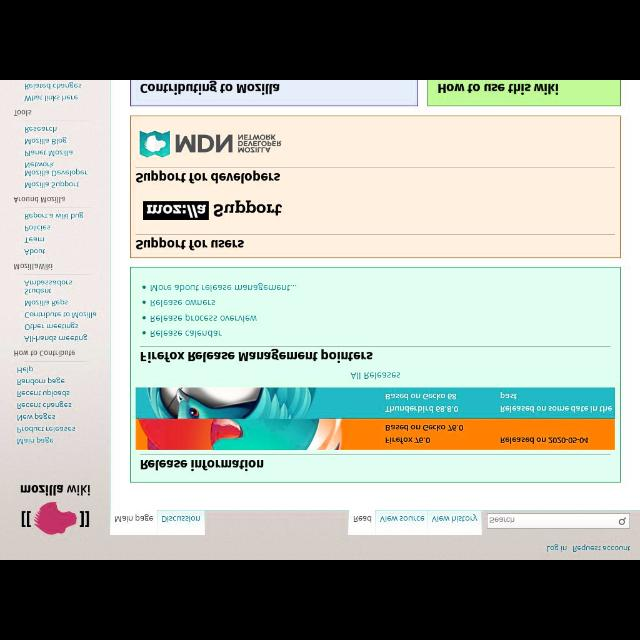icon: (618, 516, 626, 526), (142, 330, 146, 336), (142, 316, 146, 322), (142, 300, 146, 306), (142, 286, 146, 290)
image: (137, 388, 615, 452), (36, 502, 78, 536), (144, 202, 208, 220), (140, 130, 170, 156)
input: (488, 513, 630, 529)
multitab: (348, 512, 479, 534)
text: (140, 348, 374, 364), (140, 456, 264, 472), (135, 172, 281, 184), (438, 82, 560, 96), (139, 82, 281, 94), (150, 282, 298, 292), (148, 314, 258, 326), (214, 200, 282, 218), (136, 239, 244, 249), (175, 134, 233, 152), (24, 161, 88, 177), (20, 482, 90, 496), (238, 133, 280, 153), (149, 328, 223, 338), (22, 280, 74, 294), (24, 210, 84, 222), (150, 298, 217, 308), (24, 333, 90, 343), (350, 370, 402, 382), (15, 347, 76, 357), (16, 424, 76, 434), (572, 542, 632, 552), (24, 311, 98, 319), (16, 400, 74, 410), (24, 80, 82, 90), (23, 180, 79, 190), (17, 388, 71, 398), (26, 321, 80, 331), (23, 148, 75, 158), (16, 376, 66, 386), (430, 514, 478, 524), (379, 513, 426, 523), (24, 298, 70, 308), (24, 136, 70, 146), (13, 196, 67, 204), (13, 261, 52, 271), (23, 96, 78, 102), (17, 437, 55, 445), (18, 413, 56, 421), (114, 514, 152, 522), (23, 126, 59, 134), (23, 222, 51, 232), (488, 516, 514, 526), (160, 516, 202, 522), (546, 542, 568, 552), (24, 236, 44, 246), (353, 514, 373, 524), (13, 108, 32, 118), (16, 365, 34, 375), (24, 248, 46, 256)
